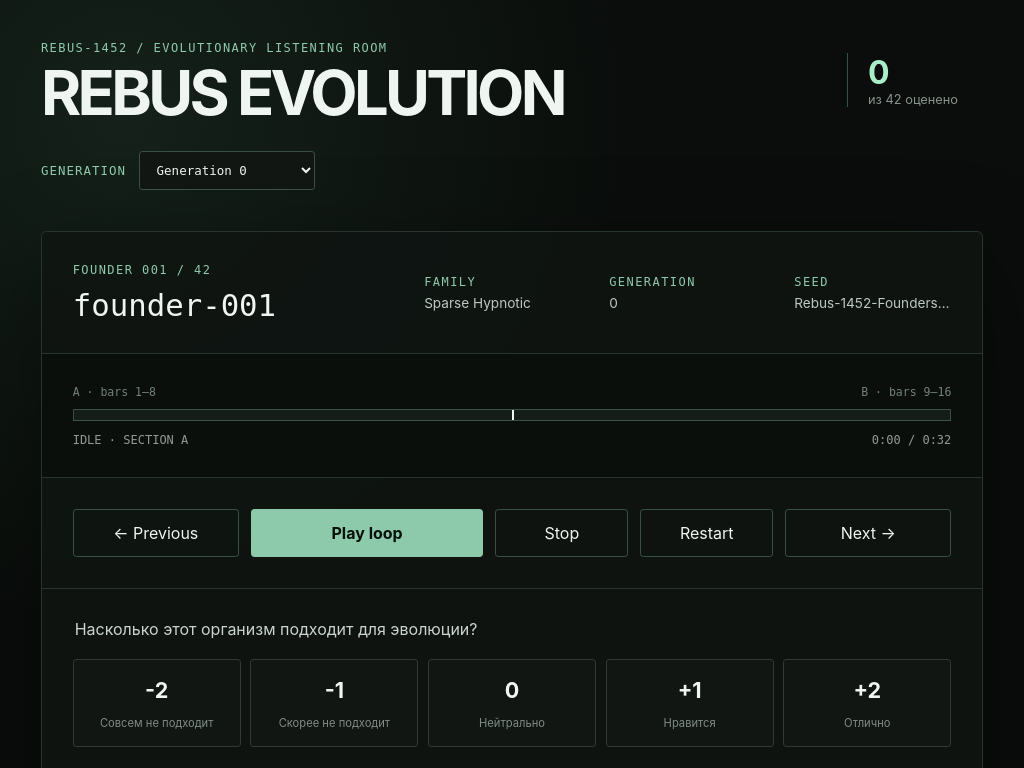
Test: App › keeps stopped across Next and Previous without hidden autoplay
Click the button "Stop".
click(562, 533)  # box x1=495 y1=509 x2=628 y2=557
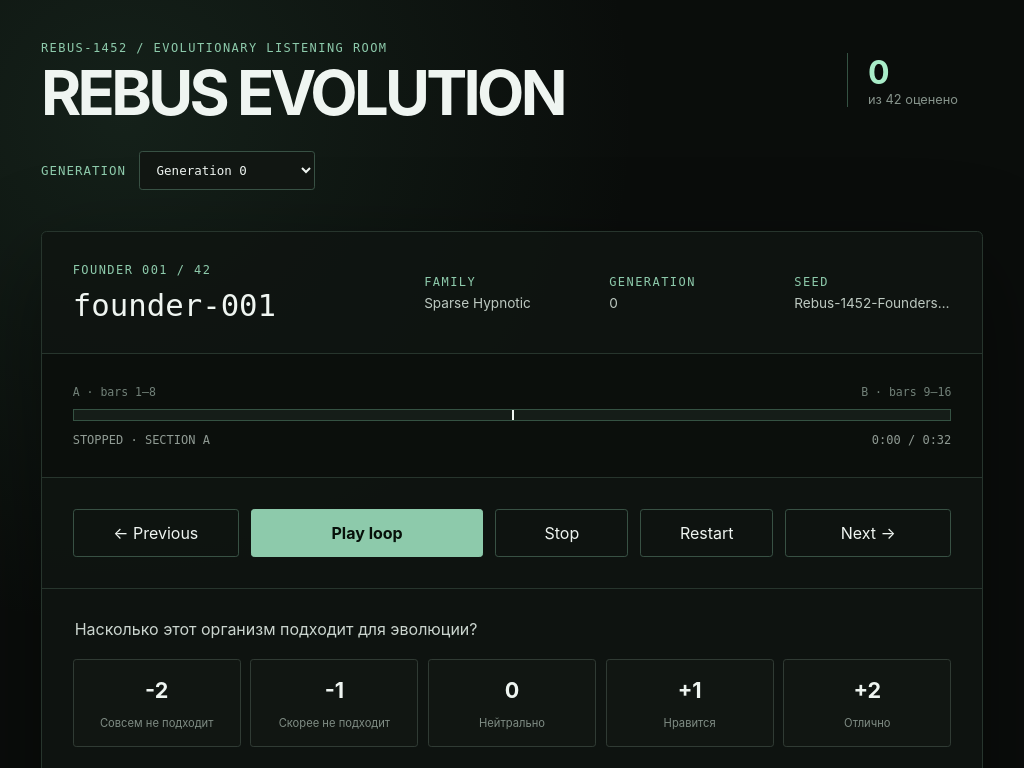
Expected: the message shows "stopped", x1=73 y1=433 x2=123 y2=447
Click the button "Next →".
click(868, 533)  # box x1=785 y1=509 x2=951 y2=557
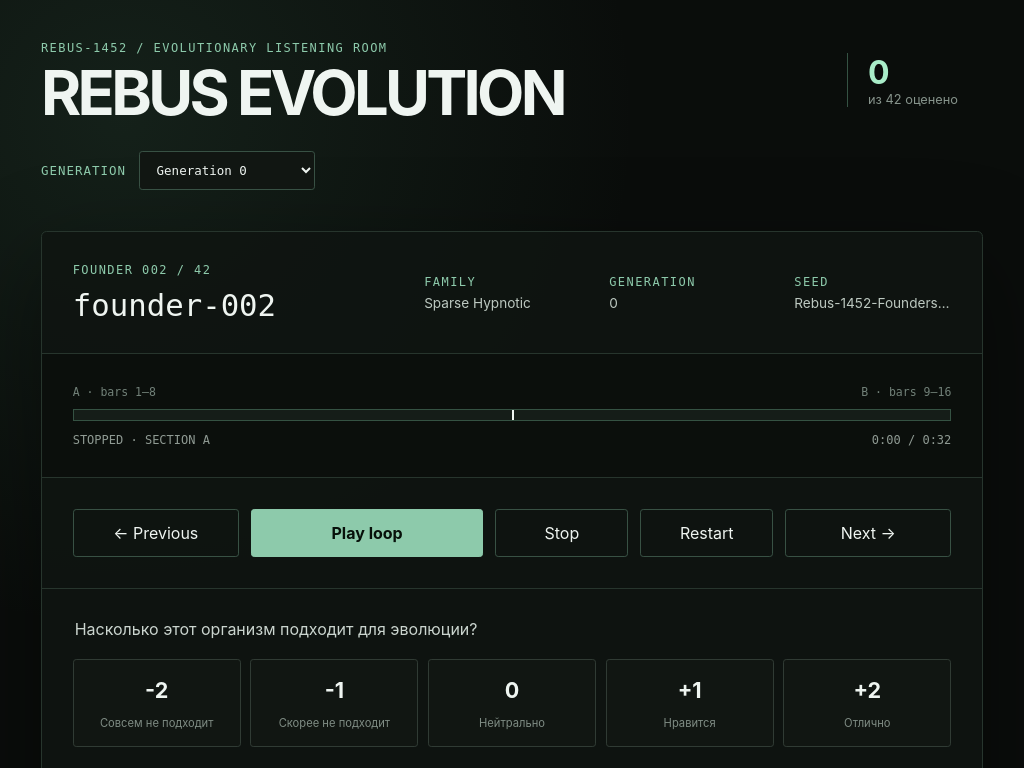
Expected: the message shows "stopped", x1=73 y1=433 x2=123 y2=447
Expected: the heading "founder-002" is shown, x1=73 y1=287 x2=276 y2=323
Click the button "← Previous".
click(156, 533)  # box x1=73 y1=509 x2=239 y2=557
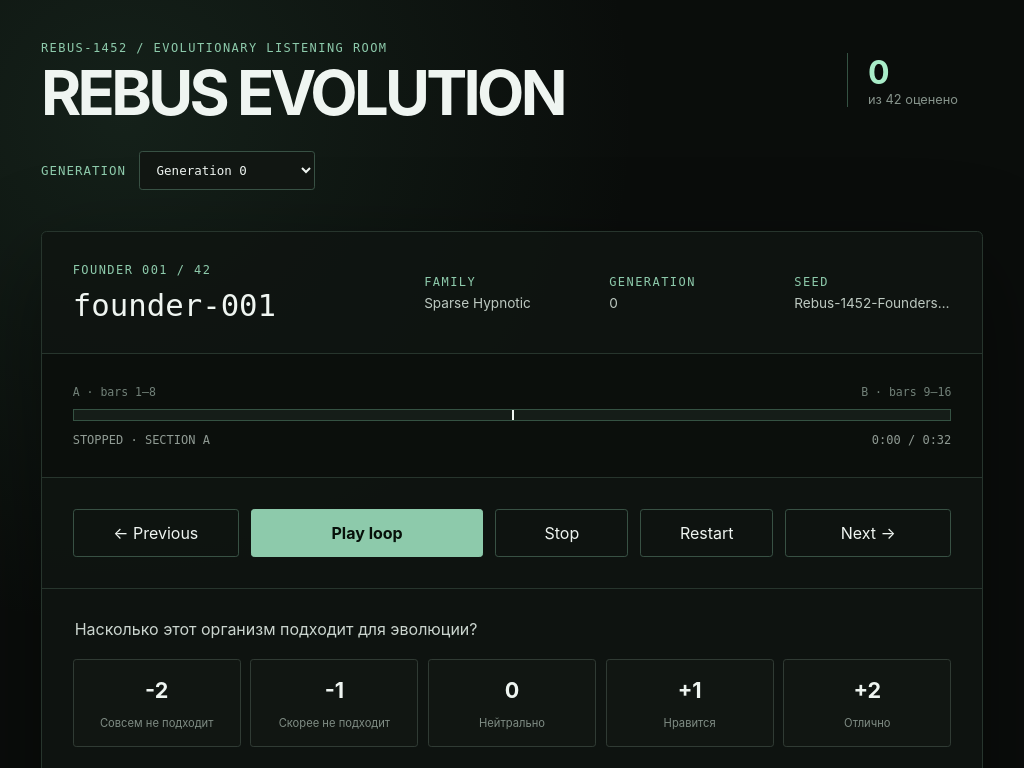
Expected: the message shows "stopped", x1=73 y1=433 x2=123 y2=447
Expected: the heading "founder-001" is shown, x1=73 y1=287 x2=276 y2=323
